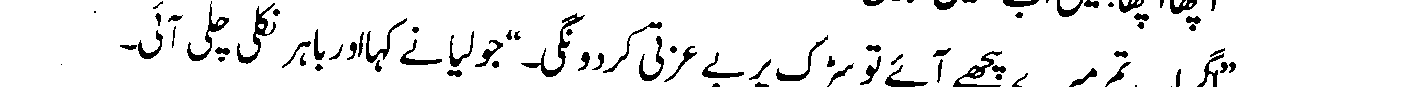bay_shosha: (312, 47, 325, 71)
